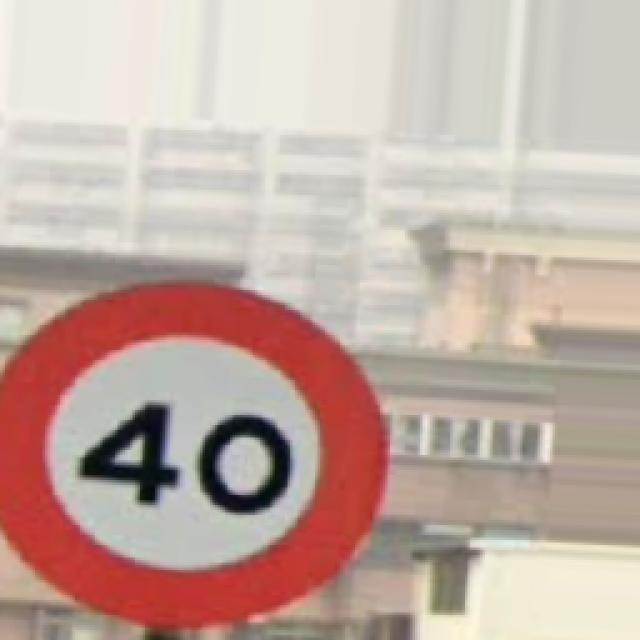Speed Limit -40-: (0, 282, 388, 625)
